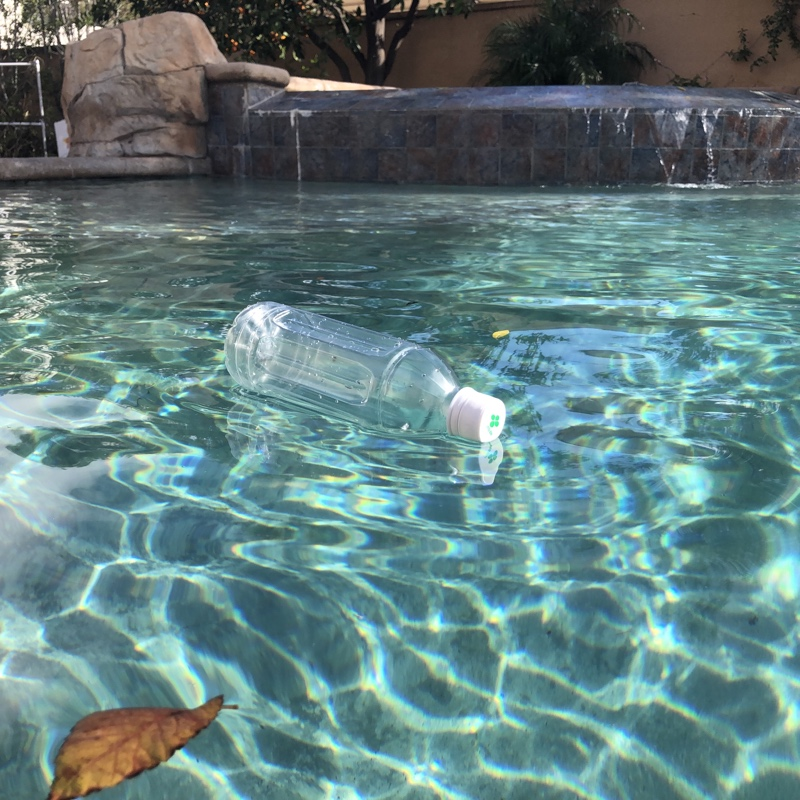Plastic Bottle: (222, 297, 507, 448)
